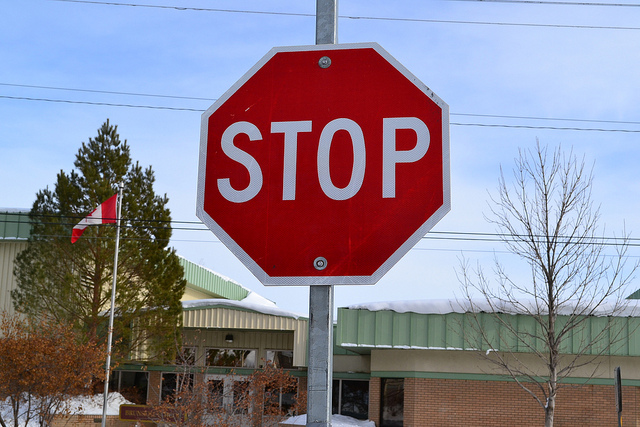sign_stop: (194, 40, 451, 286)
